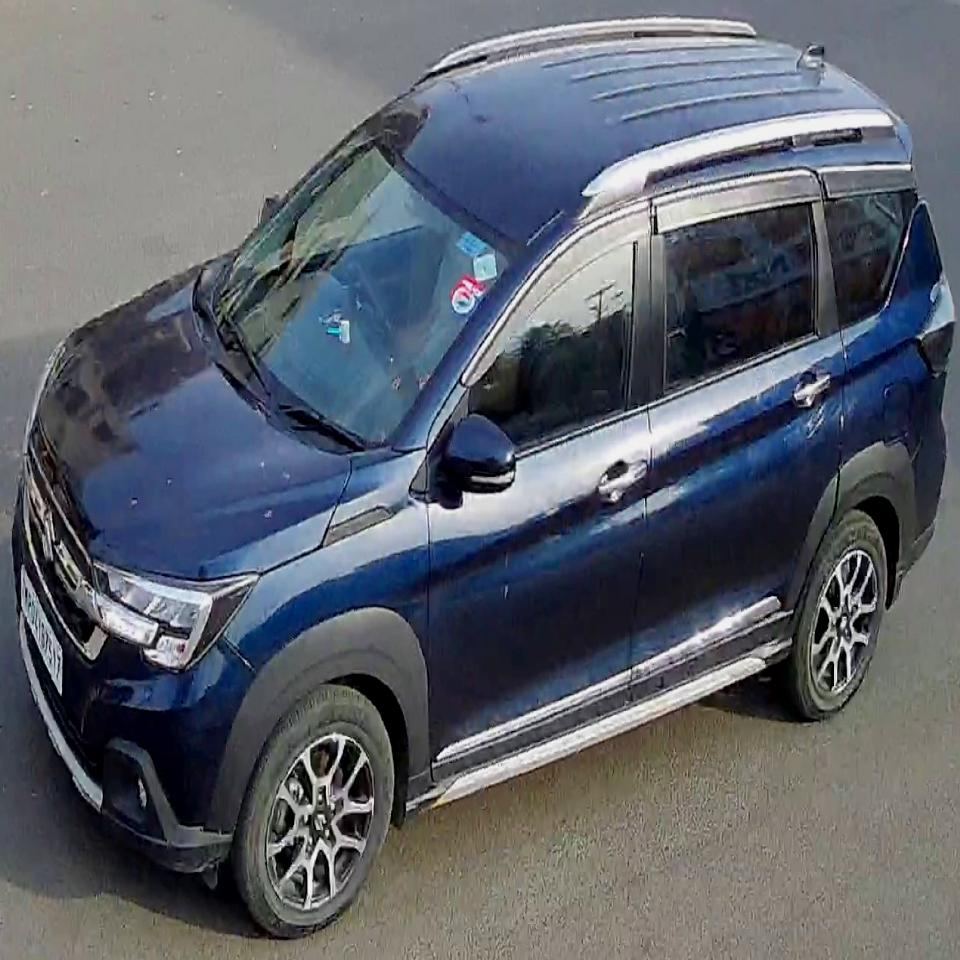head_light: (95, 560, 215, 671)
